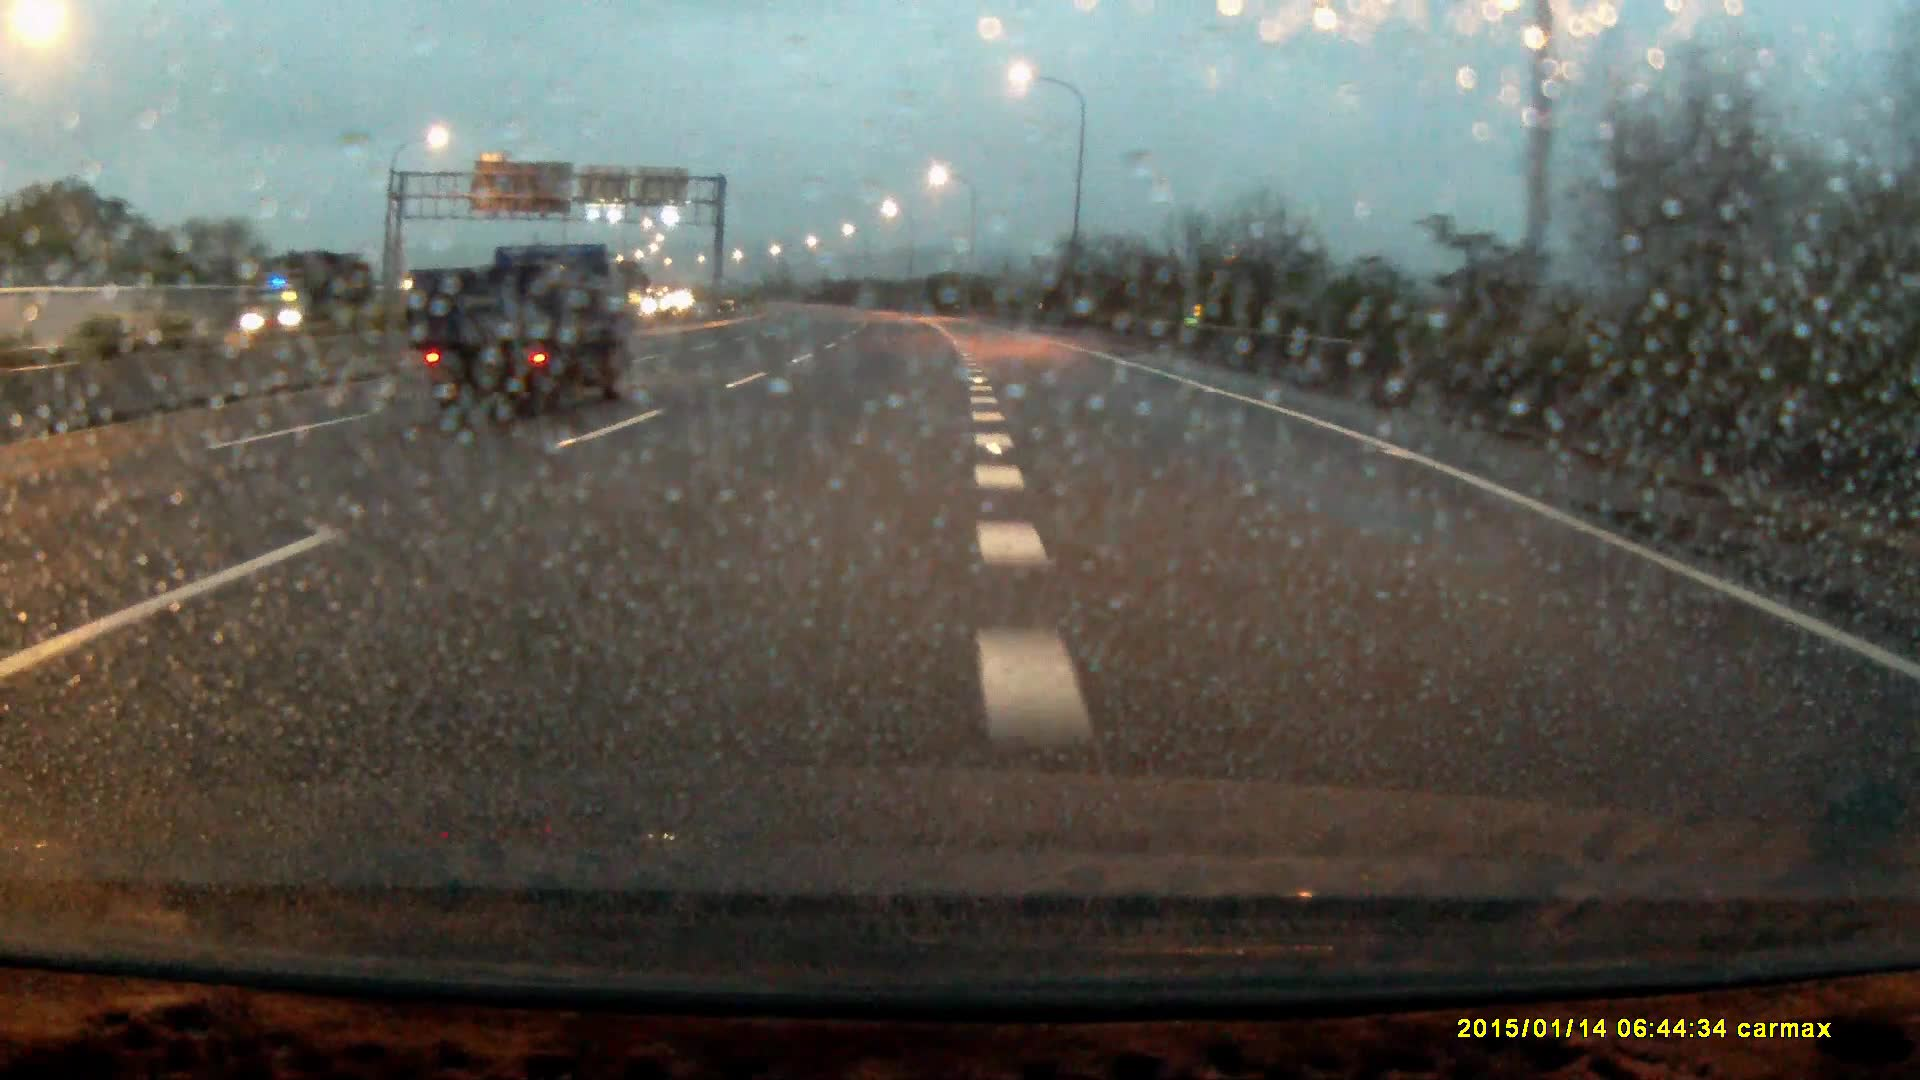vehicle: (407, 243, 626, 418), (236, 265, 371, 339)
